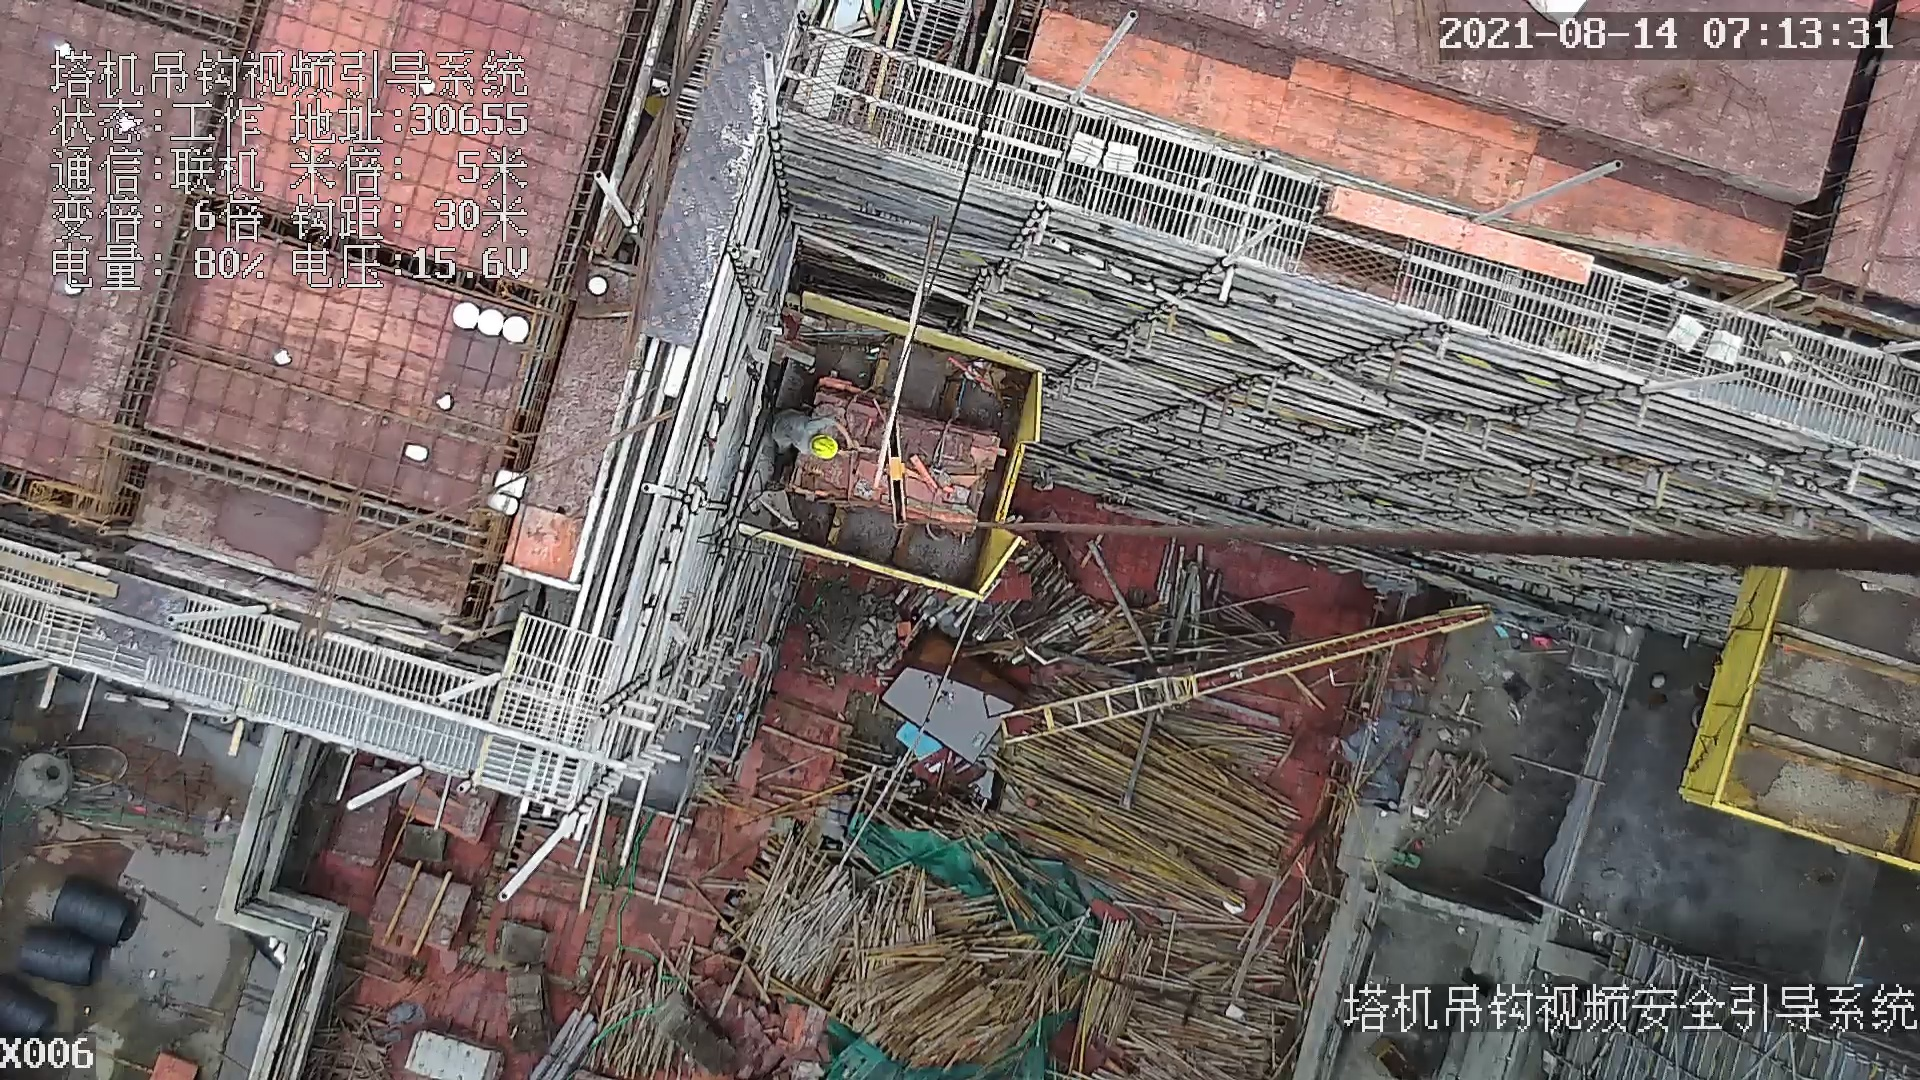helmet: (807, 430, 843, 460)
hook: (885, 413, 913, 533)
person: (762, 405, 863, 465)
